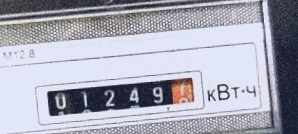0: (53, 89, 67, 110)
1: (78, 88, 89, 107)
2: (102, 86, 116, 107)
4: (127, 84, 139, 104)
7: (174, 77, 187, 96)
9: (150, 83, 164, 105)
screen: (26, 69, 203, 123)
